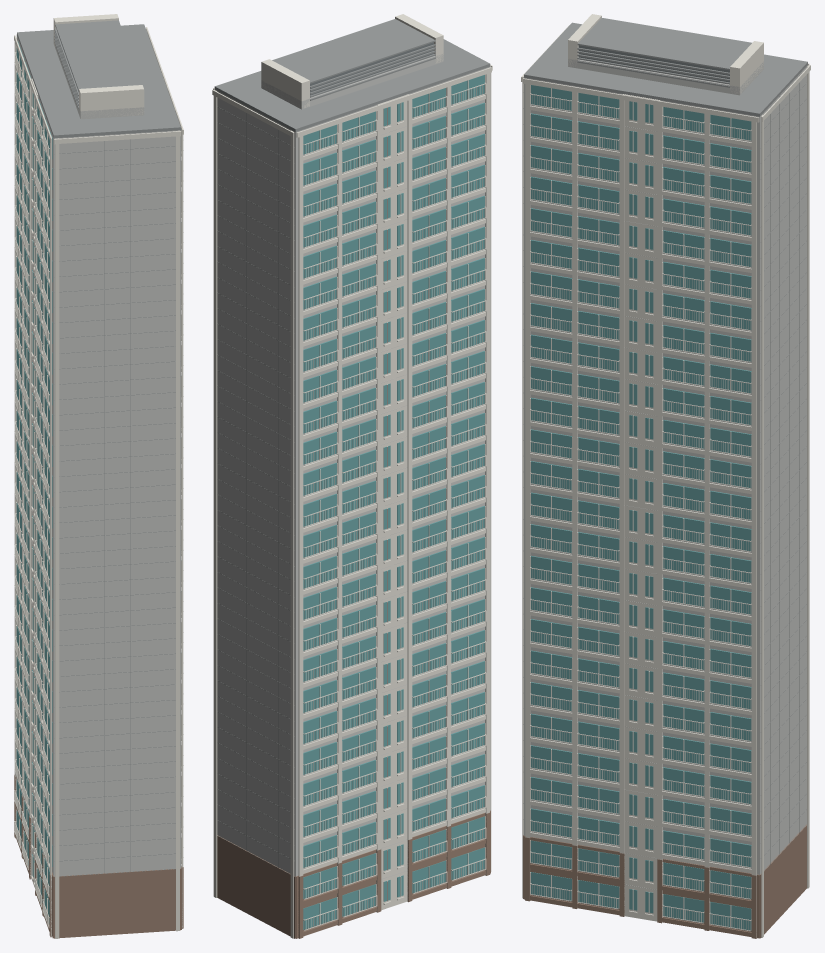
Rendered from bespoke-jamsil-els-171.glb.
The picture shows the model from 3 angles, left to right: view 1: azimuth 30°, elevation 25°; view 2: azimuth 150°, elevation 25°; view 3: azimuth 270°, elevation 25°; orthographic projection. The views are drawn at different scales.
Parts seen in each view (by area): view 1: Els171_editable_Els171_light_grey_solid_wall, Els171_editable_Els171_modest_grey_flat_roof_caps, Els171_white_exact_chunk_0, Els171_white_exact_chunk_1, Els171_editable_Els171_turquoise_balcony_glazing, Els171_editable_Els171_muted_ground_wall, Els171_white_exact_chunk_2; view 2: Els171_editable_Els171_turquoise_balcony_glazing, Els171_editable_Els171_light_grey_solid_wall, Els171_white_exact_chunk_0, Els171_white_exact_chunk_1, Els171_editable_Els171_modest_grey_flat_roof_caps, Els171_editable_Els171_muted_ground_wall, Els171_white_exact_chunk_2, Els171_editable_Els171_narrow_charcoal_service_strips; view 3: Els171_editable_Els171_turquoise_balcony_glazing, Els171_white_exact_chunk_2, Els171_editable_Els171_light_grey_solid_wall, Els171_white_exact_chunk_1, Els171_editable_Els171_modest_grey_flat_roof_caps, Els171_editable_Els171_muted_ground_wall, Els171_white_exact_chunk_0, Els171_editable_Els171_narrow_charcoal_service_strips.
Part boxes in pixels (x1,y1,x2,y2): Els171_editable_Els171_light_grey_solid_wall: [17, 36, 180, 876]; Els171_editable_Els171_modest_grey_flat_roof_caps: [17, 20, 180, 876]; Els171_white_exact_chunk_0: [14, 34, 42, 907]; Els171_white_exact_chunk_1: [14, 35, 183, 938]; Els171_editable_Els171_turquoise_balcony_glazing: [16, 41, 52, 923]; Els171_editable_Els171_muted_ground_wall: [14, 775, 183, 938]; Els171_white_exact_chunk_2: [53, 14, 183, 928]; Els171_editable_Els171_turquoise_balcony_glazing: [303, 75, 484, 929]; Els171_editable_Els171_light_grey_solid_wall: [214, 54, 490, 878]; Els171_white_exact_chunk_0: [212, 90, 447, 938]; Els171_white_exact_chunk_1: [296, 65, 492, 897]; Els171_editable_Els171_modest_grey_flat_roof_caps: [214, 19, 490, 873]; Els171_editable_Els171_muted_ground_wall: [217, 810, 490, 938]; Els171_white_exact_chunk_2: [213, 14, 443, 108]; Els171_editable_Els171_narrow_charcoal_service_strips: [310, 42, 433, 95]; Els171_editable_Els171_turquoise_balcony_glazing: [531, 85, 751, 930]; Els171_white_exact_chunk_2: [522, 14, 763, 937]; Els171_editable_Els171_light_grey_solid_wall: [524, 59, 807, 889]; Els171_white_exact_chunk_1: [521, 26, 809, 921]; Els171_editable_Els171_modest_grey_flat_roof_caps: [523, 18, 807, 870]; Els171_editable_Els171_muted_ground_wall: [523, 824, 806, 938]; Els171_white_exact_chunk_0: [761, 65, 810, 937]; Els171_editable_Els171_narrow_charcoal_service_strips: [578, 45, 729, 82].
Bounding box in the file's own units: 16.76 × 71.15 × 21.96.
